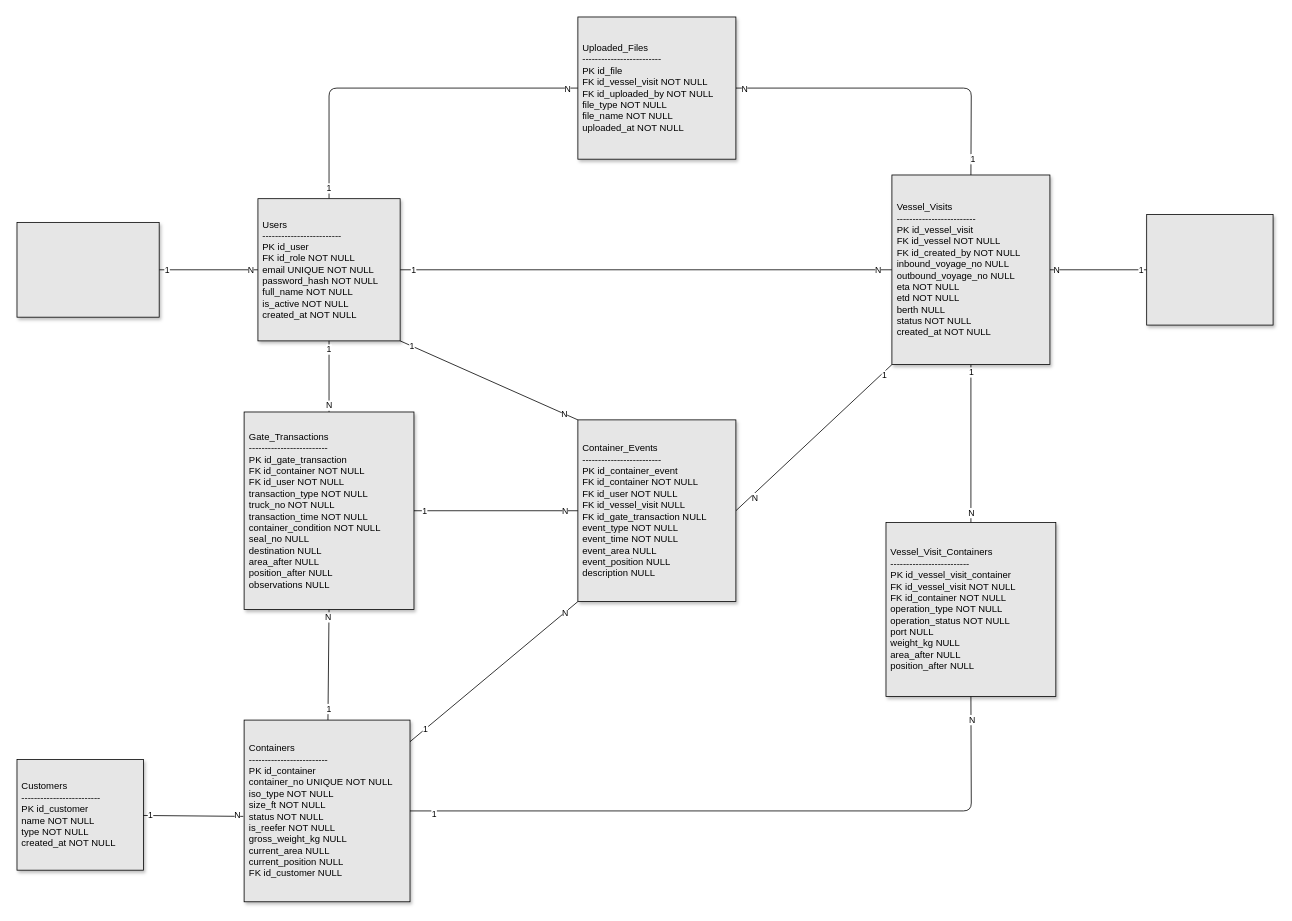
Image size: 1292x921. Some labels were removed from this diagram. Each missing label, with the centre of its shape:
Roles ------------------------- PK id_role code UNIQUE NOT NULL name NOT NULL: [88,270]
Vessels ------------------------- PK id_vessel name NOT NULL imo UNIQUE NOT NULL: [1210,271]
